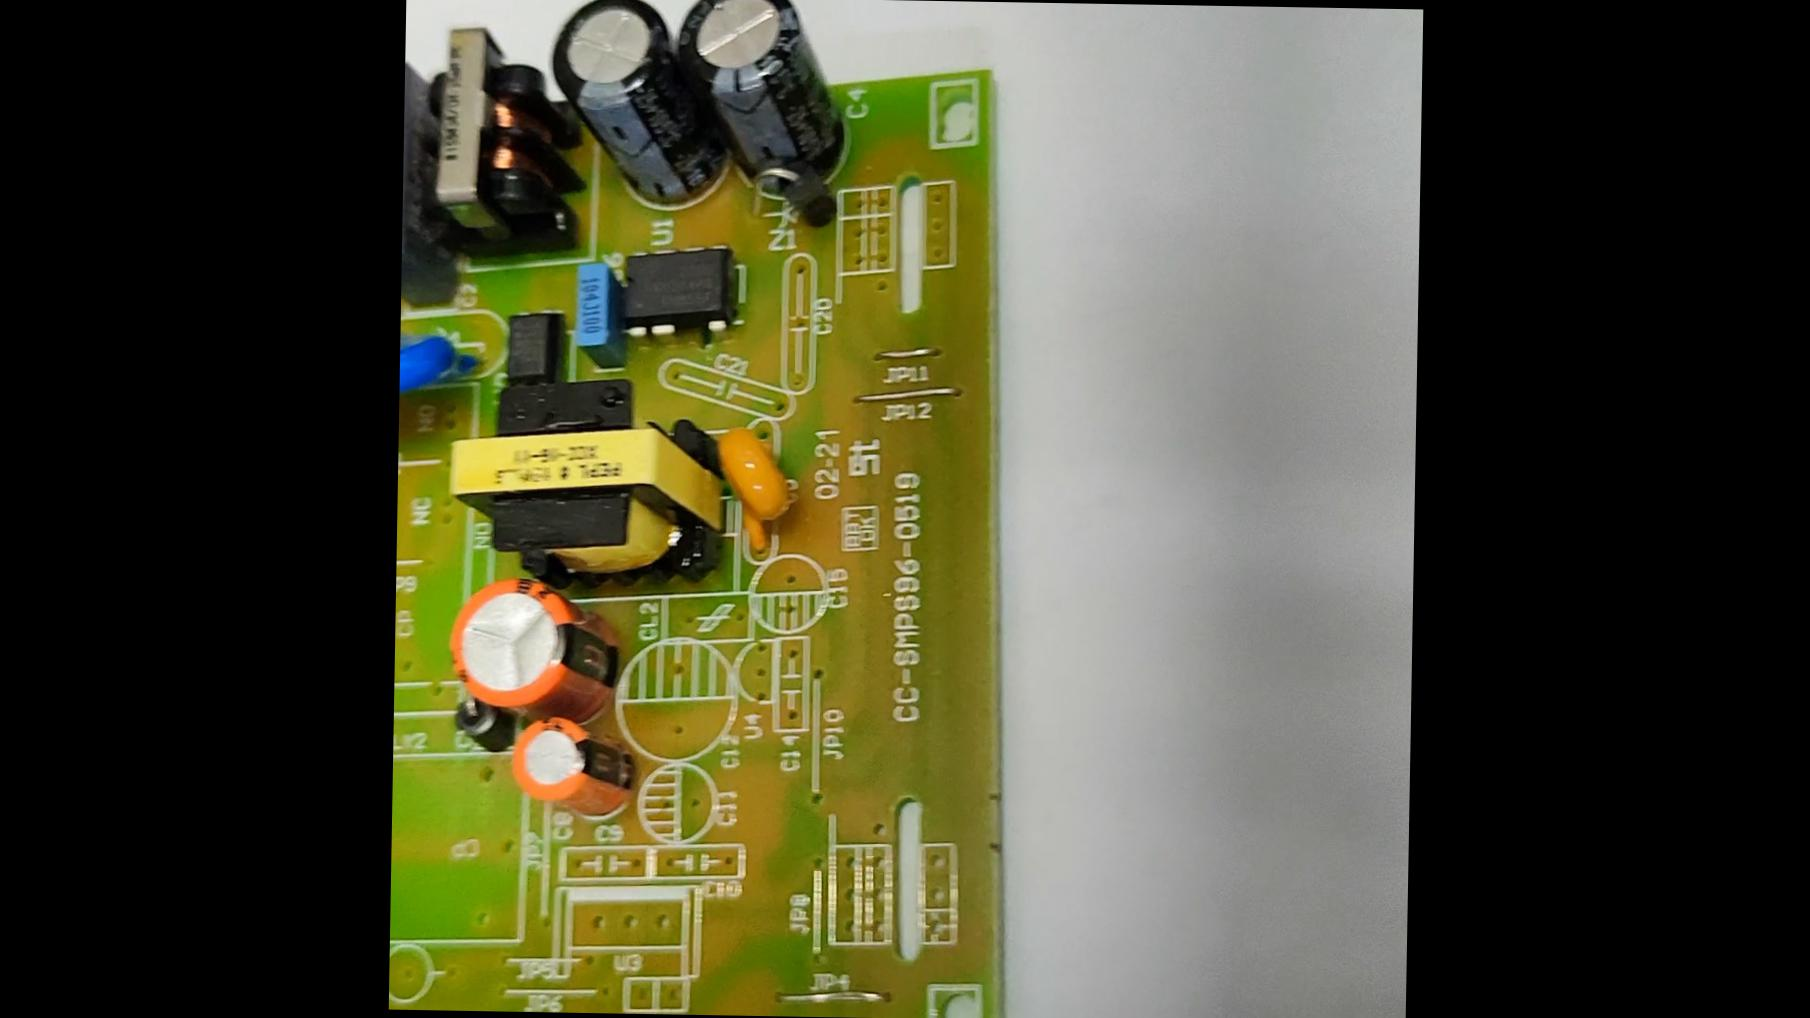Cap1: (443, 574, 643, 711)
Cap2: (506, 713, 644, 817)
Cap3: (546, 0, 682, 203)
Cap4: (671, 0, 852, 191)
MOSFET: (617, 234, 738, 348)
Mov: (399, 317, 485, 415)
Transformer: (425, 7, 548, 256)
